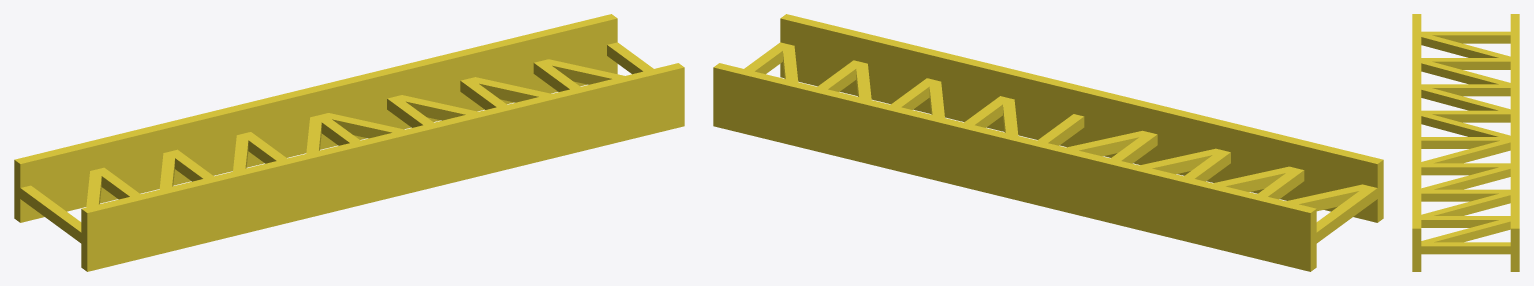
The model's file is openscad_common-truss-types.glb.
The picture shows the model from 3 angles, left to right: view 1: azimuth 30°, elevation 25°; view 2: azimuth 150°, elevation 25°; view 3: azimuth 270°, elevation 25°; orthographic projection. The views are drawn at different scales.
Visible parts, largest first — view 1: object; view 2: object; view 3: object.
Part boxes in pixels (bbox=[...]): object: bbox=[14, 14, 684, 271]; object: bbox=[713, 14, 1383, 271]; object: bbox=[1412, 14, 1519, 271].
Bounding box in the file's own units: 170 × 16 × 36.
